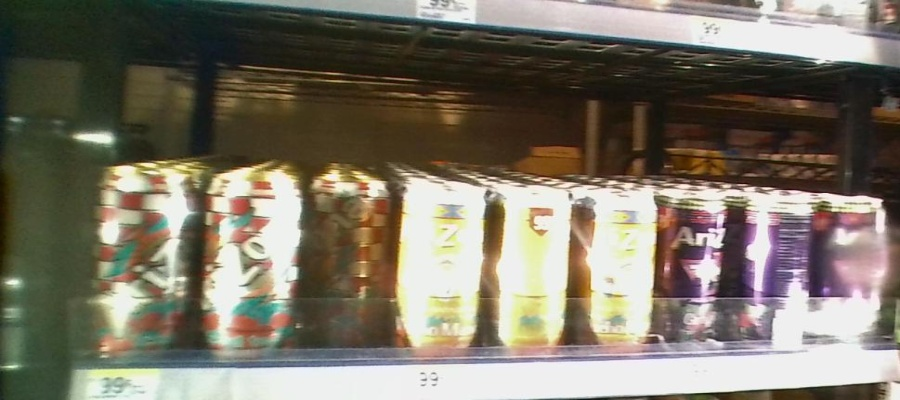bottle: (197, 155, 307, 357), (89, 158, 195, 356), (491, 175, 578, 356), (399, 181, 487, 358), (309, 169, 395, 350), (580, 174, 659, 355), (734, 185, 815, 356), (661, 181, 730, 352), (817, 185, 884, 354)
